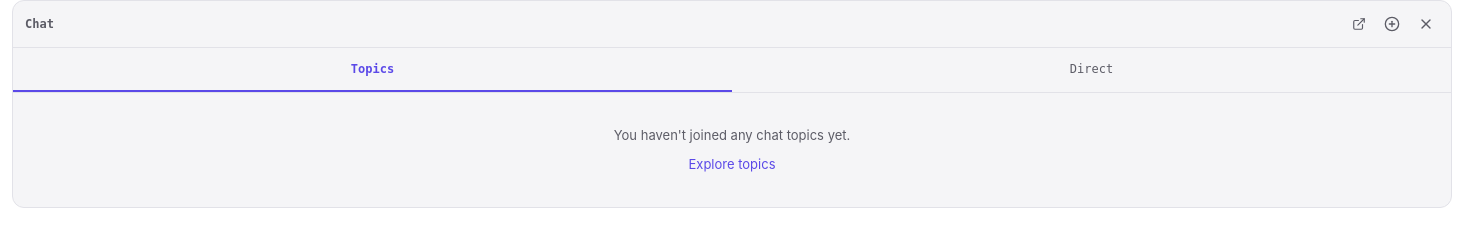
Test: list view — Direct tab › BOUNDARY 0: no DMs shows the empty state
Click the tab "Direct". click: (1092,70)
box: [732,48,1451,92]
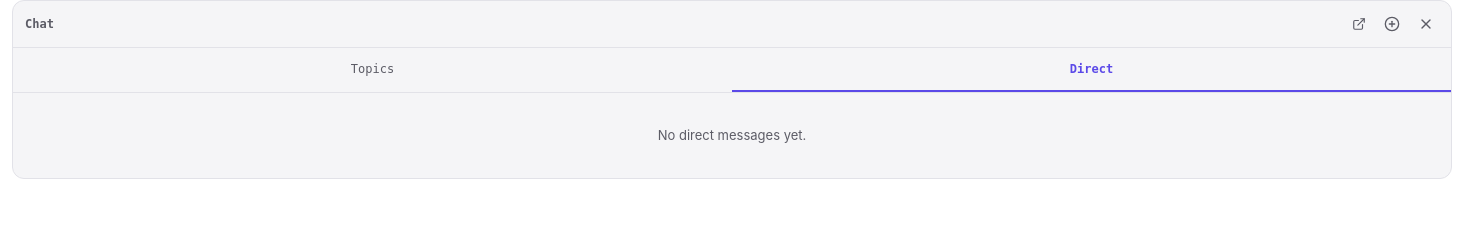
Now the text "No direct messages yet" is shown, box [658,127,806,143]
